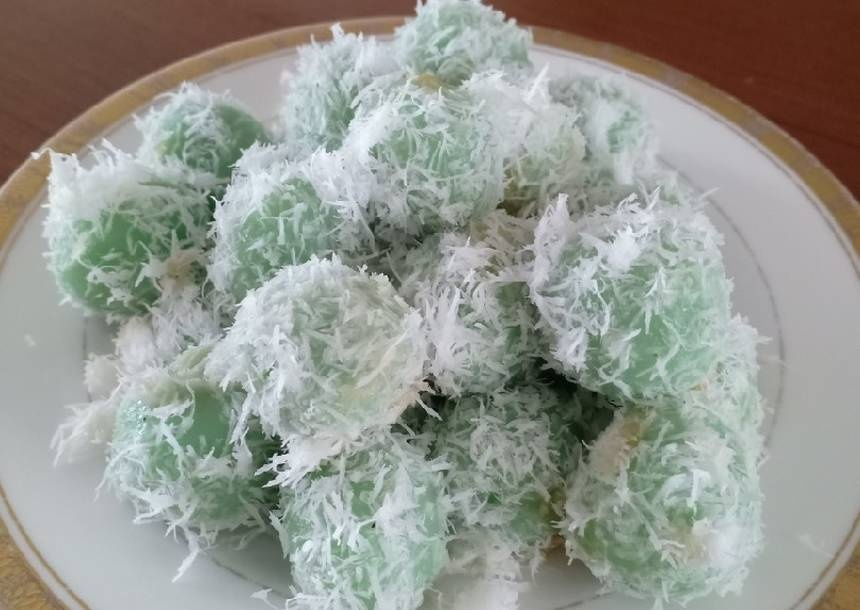klepon: (209, 259, 432, 453)
